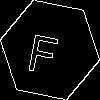F: (25, 25, 63, 75)
